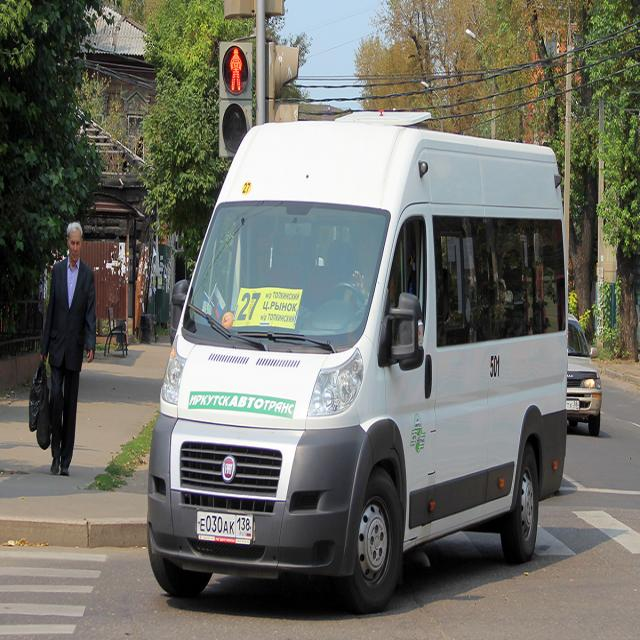number-of-bus: (238, 288, 263, 326), (243, 181, 252, 195)
